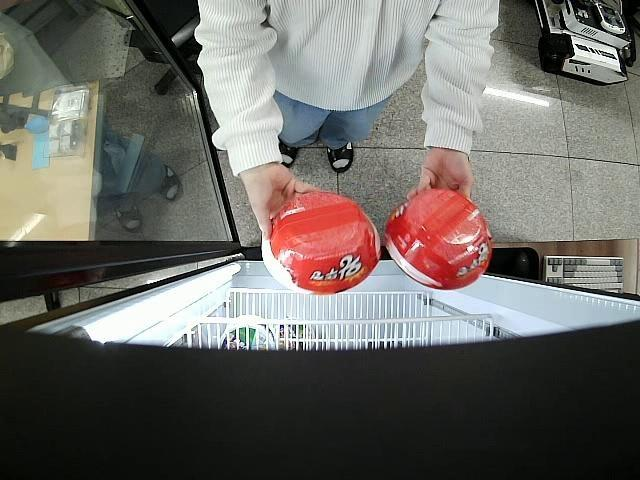10_wangTtukkeong: (262, 192, 382, 295), (385, 188, 491, 292)
